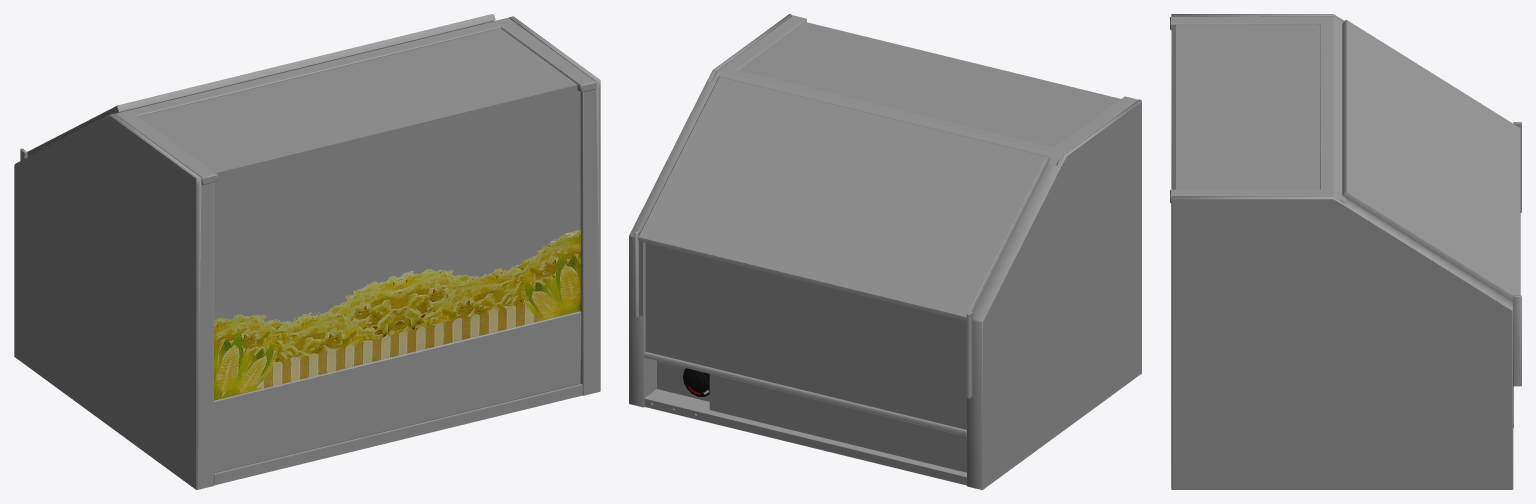
File: LC_3068_Popcorndispenser_LOD3.FBX
3 views of the same model, side by side, from view 1: azimuth 30°, elevation 25°; view 2: azimuth 150°, elevation 25°; view 3: azimuth 270°, elevation 25° (orthographic). The views are drawn at different scales.
Parts seen in each view (by area): view 1: LC_3068_Popcorndispenser_LOD3; view 2: LC_3068_Popcorndispenser_LOD3; view 3: LC_3068_Popcorndispenser_LOD3.
Boxes of the visible parts, x1,y1,x2,y2 form: LC_3068_Popcorndispenser_LOD3: (14, 14, 600, 489); LC_3068_Popcorndispenser_LOD3: (629, 14, 1141, 489); LC_3068_Popcorndispenser_LOD3: (1170, 14, 1521, 489).
Size of the model in its own units: 99.9 by 73.67 by 80.45.
Materials: 2 (1 with a texture image).
